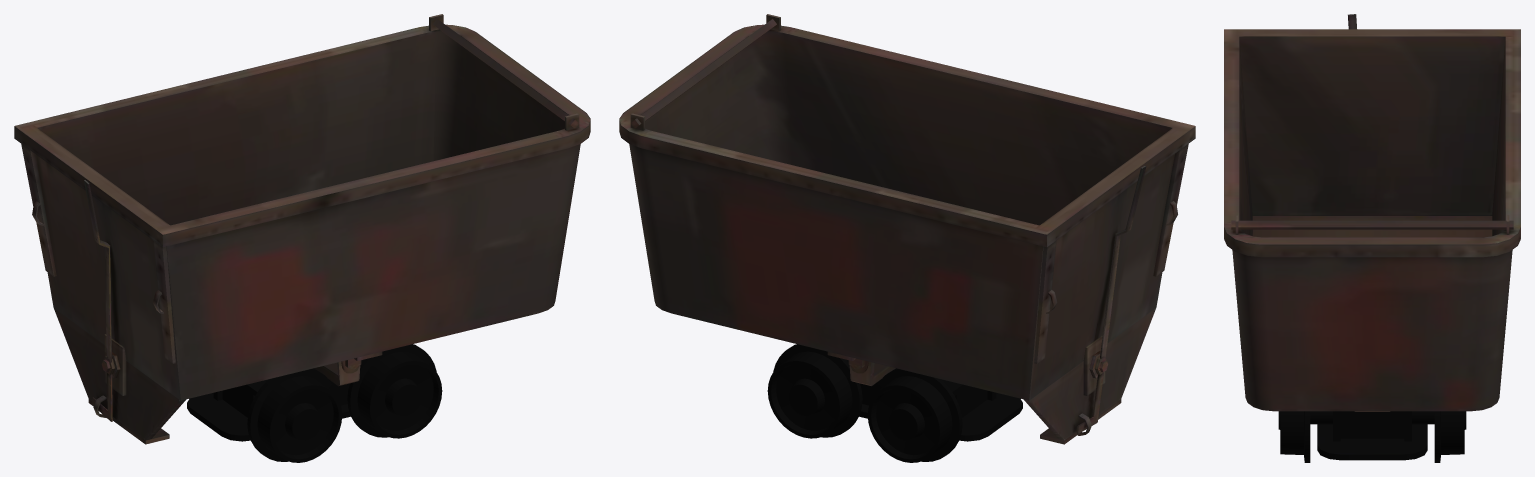
3 renders of one model, left to right at view 1: azimuth 30°, elevation 25°; view 2: azimuth 150°, elevation 25°; view 3: azimuth 270°, elevation 25°, orthographic.
Parts seen in each view (by area): view 1: body0_model0_lod0_mesh0; view 2: body0_model0_lod0_mesh0; view 3: body0_model0_lod0_mesh0.
Part boxes in pixels (bbox=[...]): body0_model0_lod0_mesh0: bbox=[14, 14, 590, 462]; body0_model0_lod0_mesh0: bbox=[619, 14, 1195, 462]; body0_model0_lod0_mesh0: bbox=[1224, 14, 1520, 462].
Bounding box in the file's own units: 92.93 × 60.58 × 52.57.
Materials: 1 (1 with a texture image).
